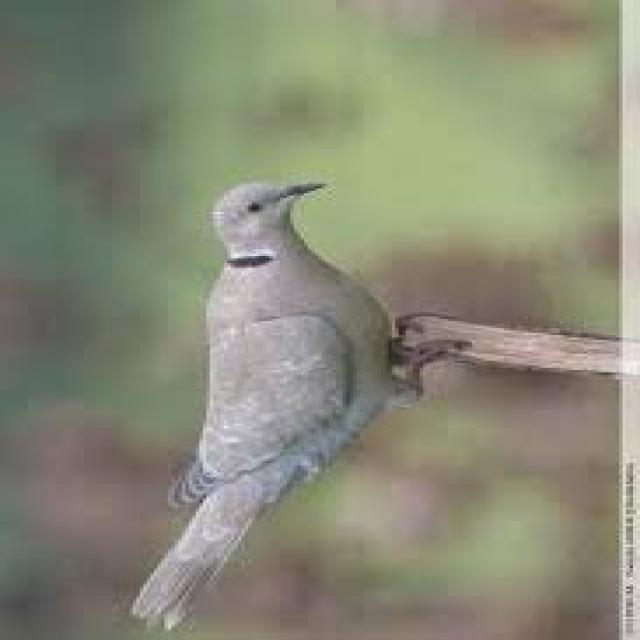pigeon: (137, 142, 437, 631)
